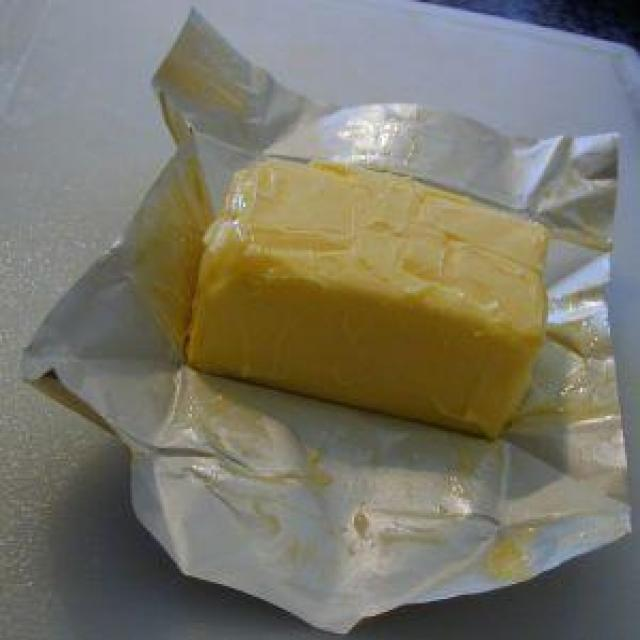Butter: (192, 166, 538, 448)
